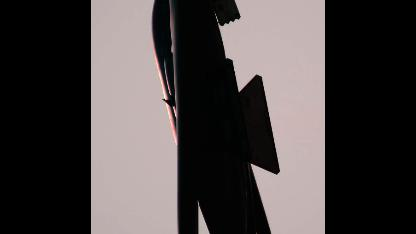B1: (151, 0, 290, 233)
